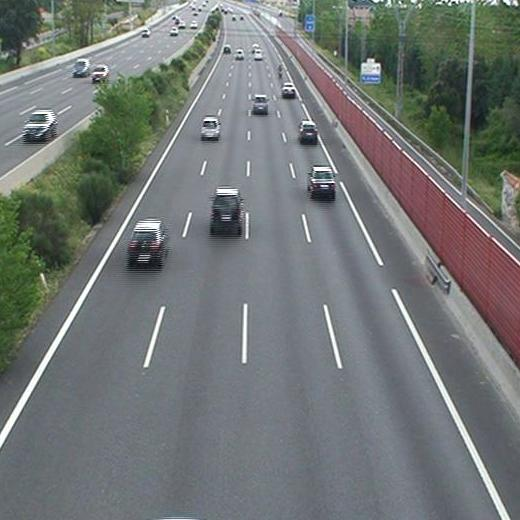car: (129, 221, 165, 263), (211, 190, 240, 228), (308, 166, 336, 194), (201, 118, 220, 138), (299, 121, 317, 140), (252, 95, 269, 111), (282, 83, 295, 96), (234, 50, 244, 60), (254, 50, 263, 59), (222, 45, 229, 53)
motorcycle: (276, 62, 284, 79)
